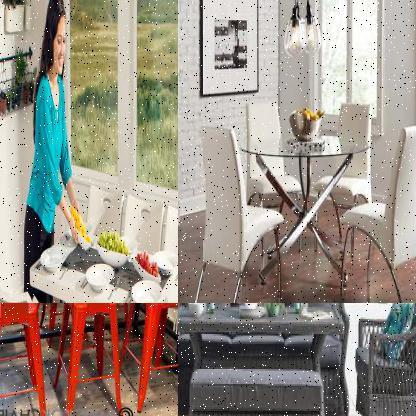table: (235, 124, 372, 292), (0, 303, 177, 415), (178, 303, 346, 415), (27, 213, 177, 302)
